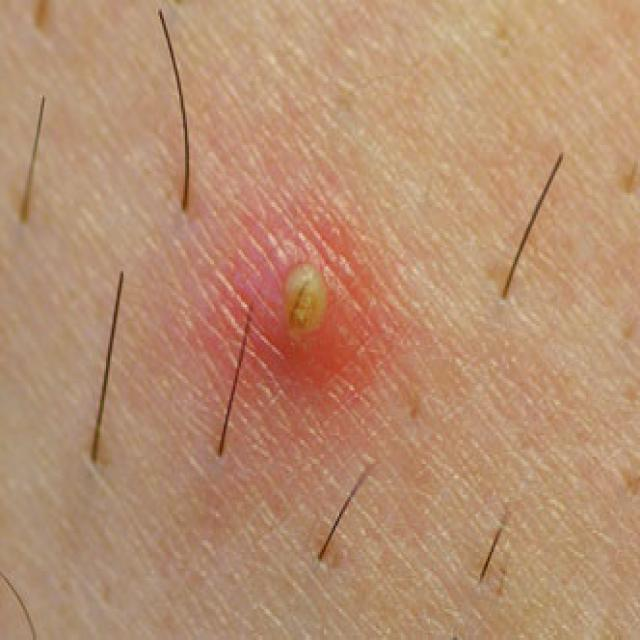pustule: (256, 225, 353, 382)
